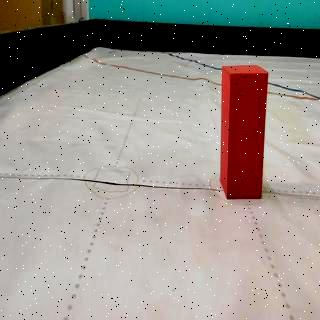redbox: (219, 64, 269, 200)
